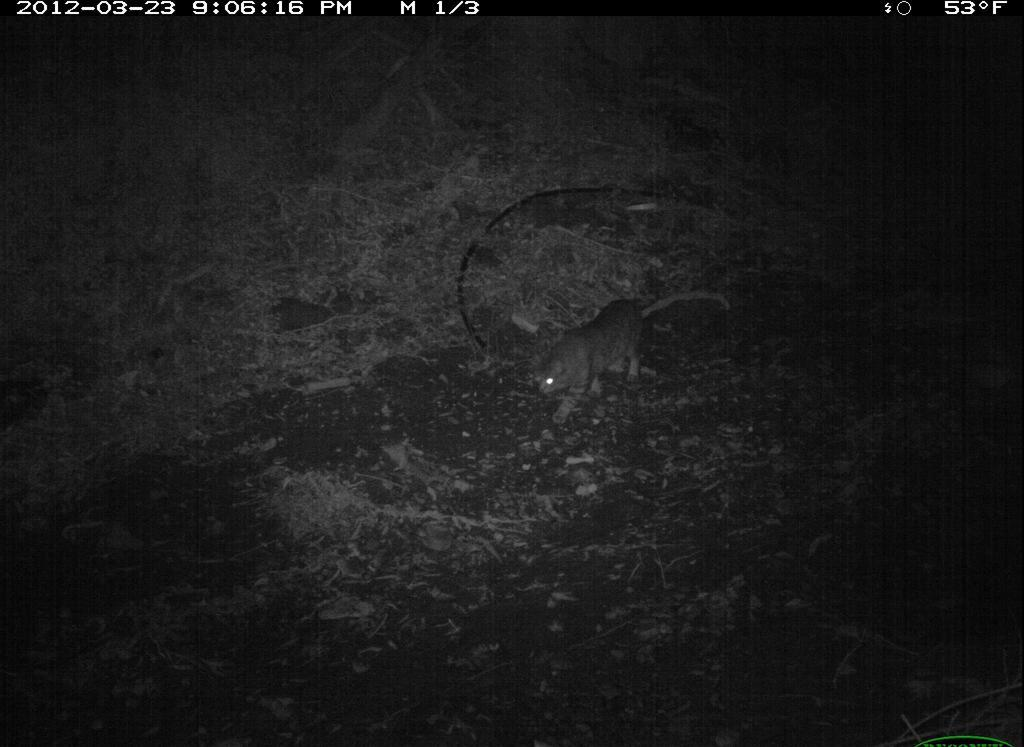cat: (523, 283, 713, 434)
